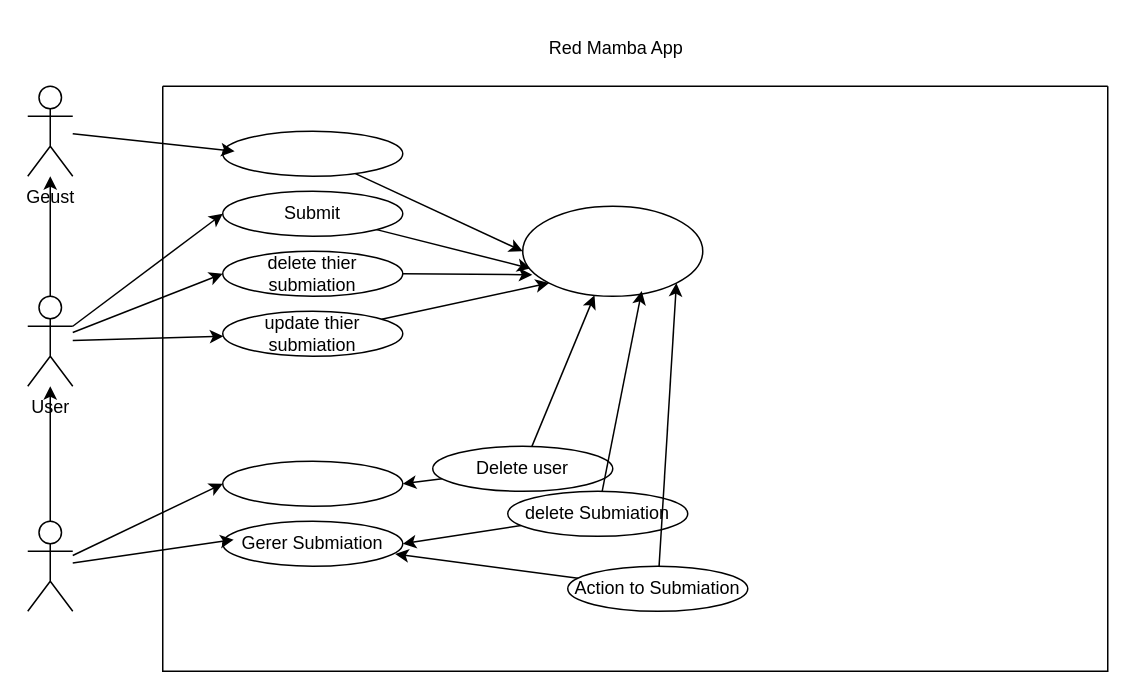
Some shapes in this 1134 by 698 pixel diagram are drawn without their labels. Each missing label, with the box of its shape:
admin: (26, 520, 73, 611)
Authentification: (521, 205, 703, 296)
Gerer Users: (221, 460, 403, 506)
View website: (221, 130, 403, 176)
